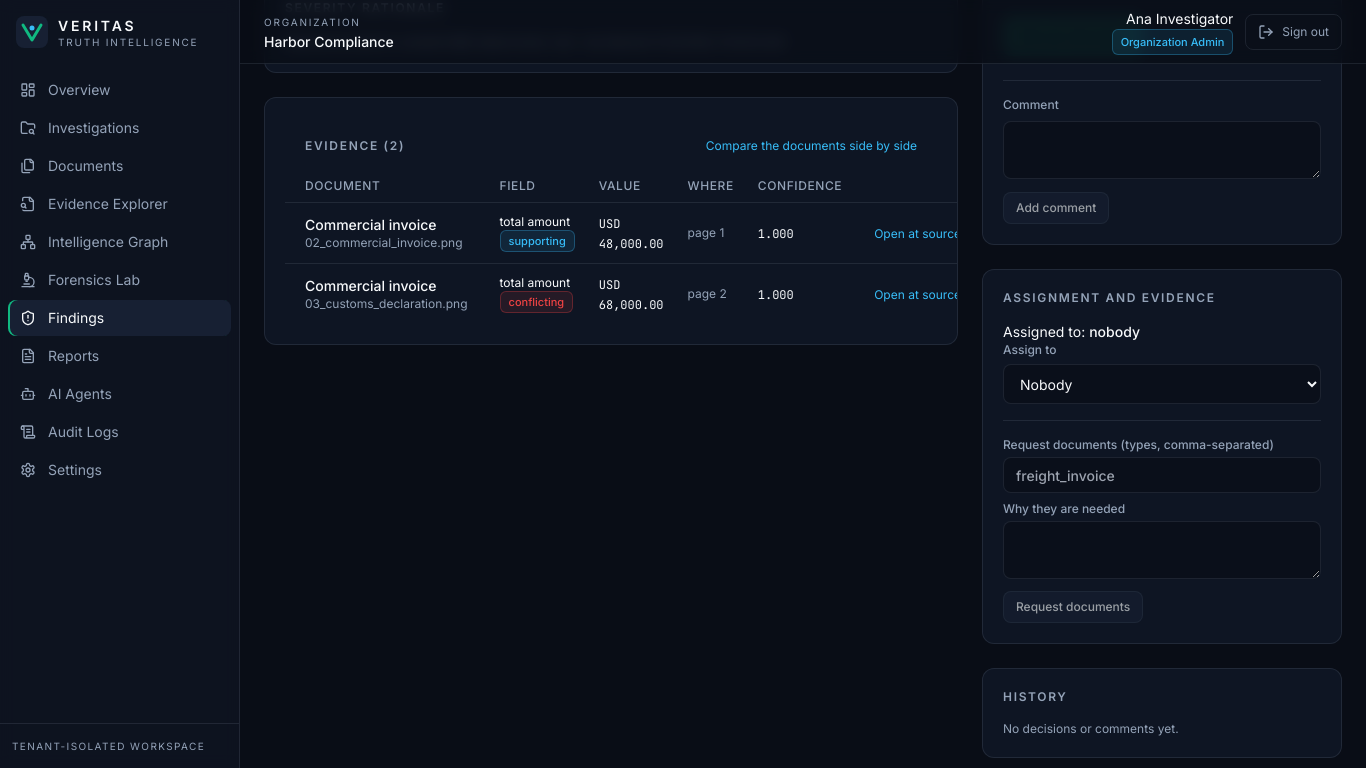
Scenario: a finding can be assigned to a member and documents requested for it
Later steps or results of the test are not shown.
(page scrolled)
Check: the text "nobody" is shown, box left=1089, top=323, right=1140, bottom=340
Select "ben@example.com" in the dropdown labelled "Assign to". click: (1162, 384)
box: left=1003, top=364, right=1321, bottom=404
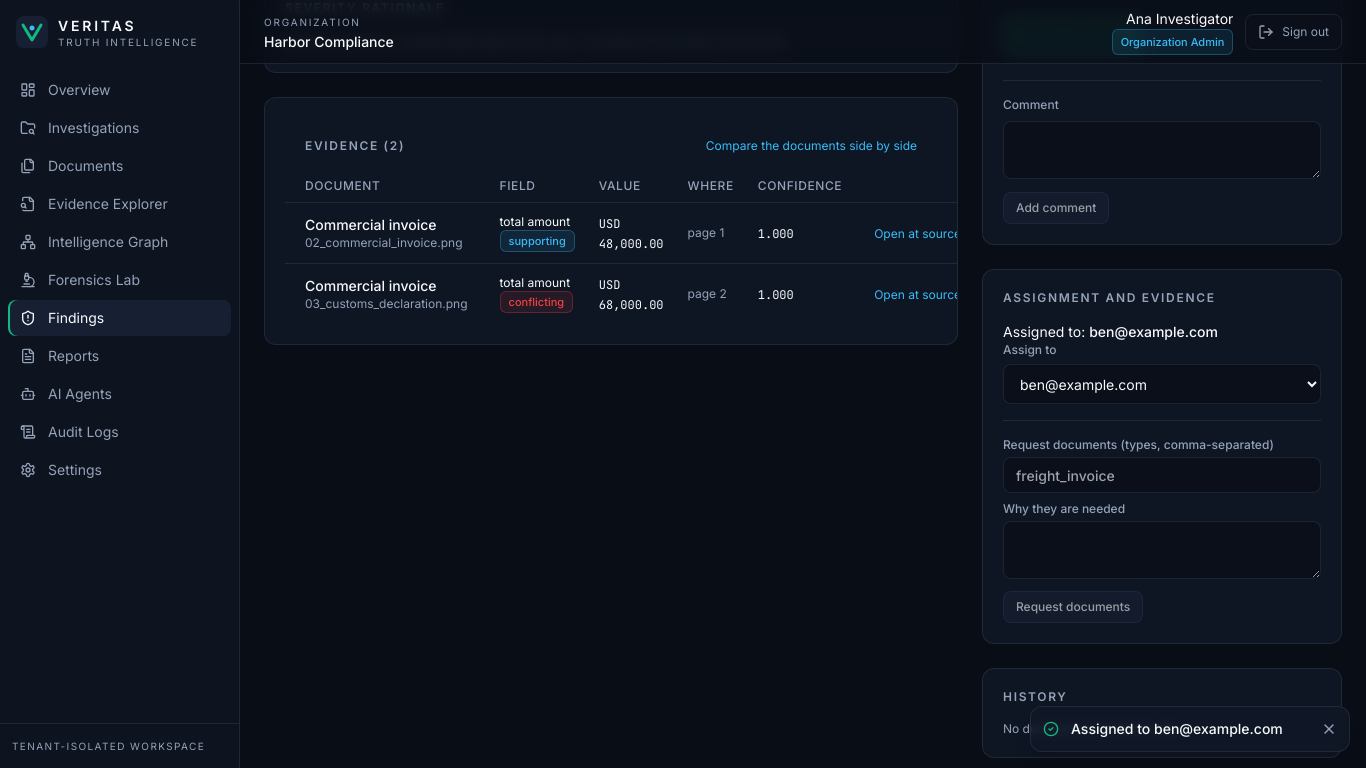
Check: the text "ben@example.com" is shown, box left=1089, top=323, right=1218, bottom=340
